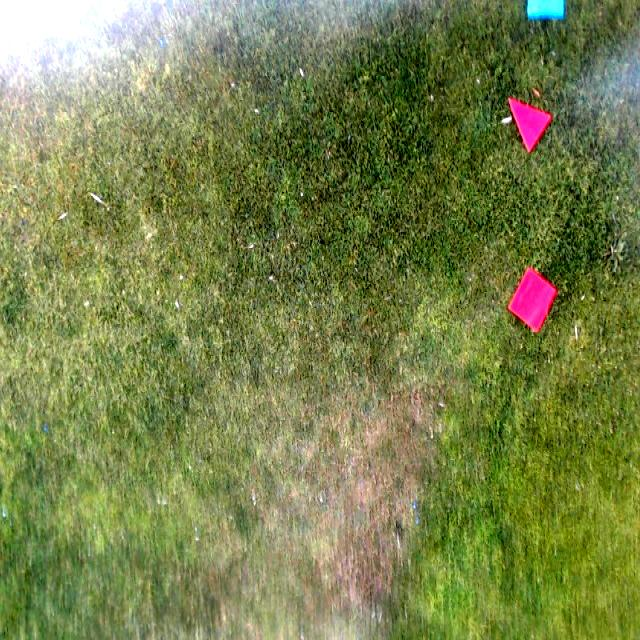red_square: (510, 270, 556, 334)
red_triangle: (508, 99, 550, 154)
